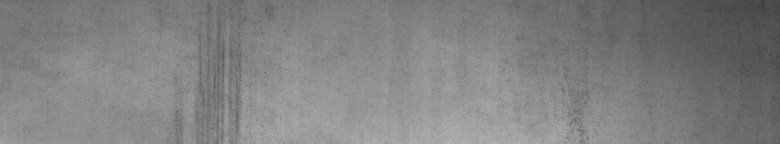ka: (175, 38, 245, 135)
